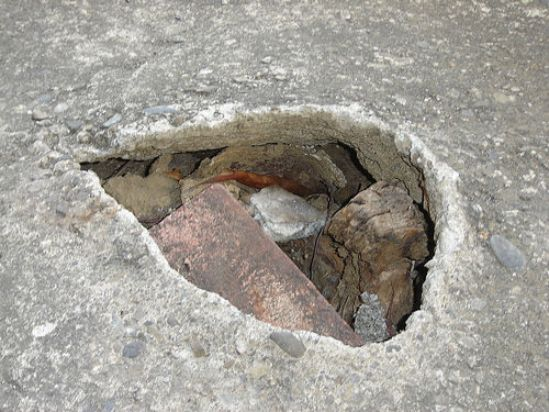pothole: (65, 101, 460, 349)
